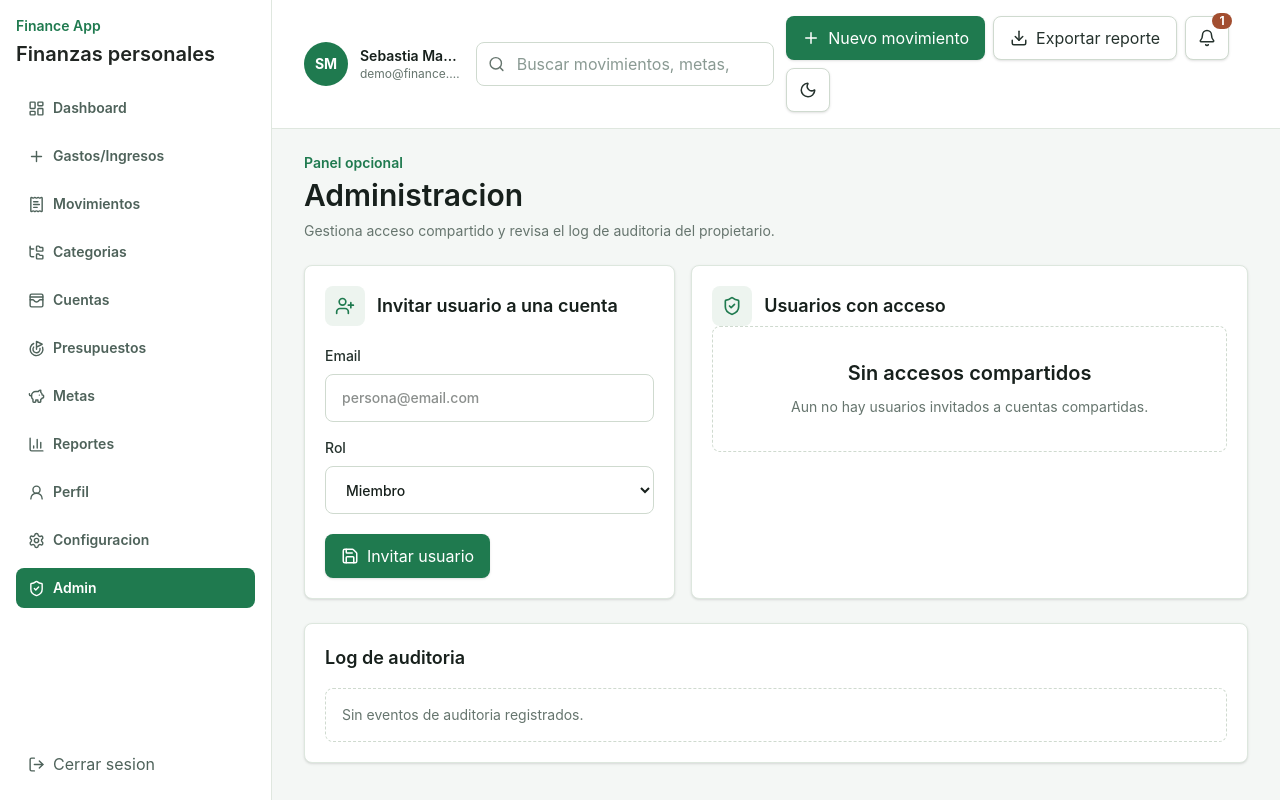
Test: HU-05 Experiencia Configuracion e Inteligencia › permite invitar usuarios desde el panel admin
The width and height of the screenshot is (1280, 800).
expect the heading "Administracion" is shown: met, box [304,177,523,213]
Type "lector@finance.app" into the field labelled "Email" at point(490, 398), box [325,374,654,422]
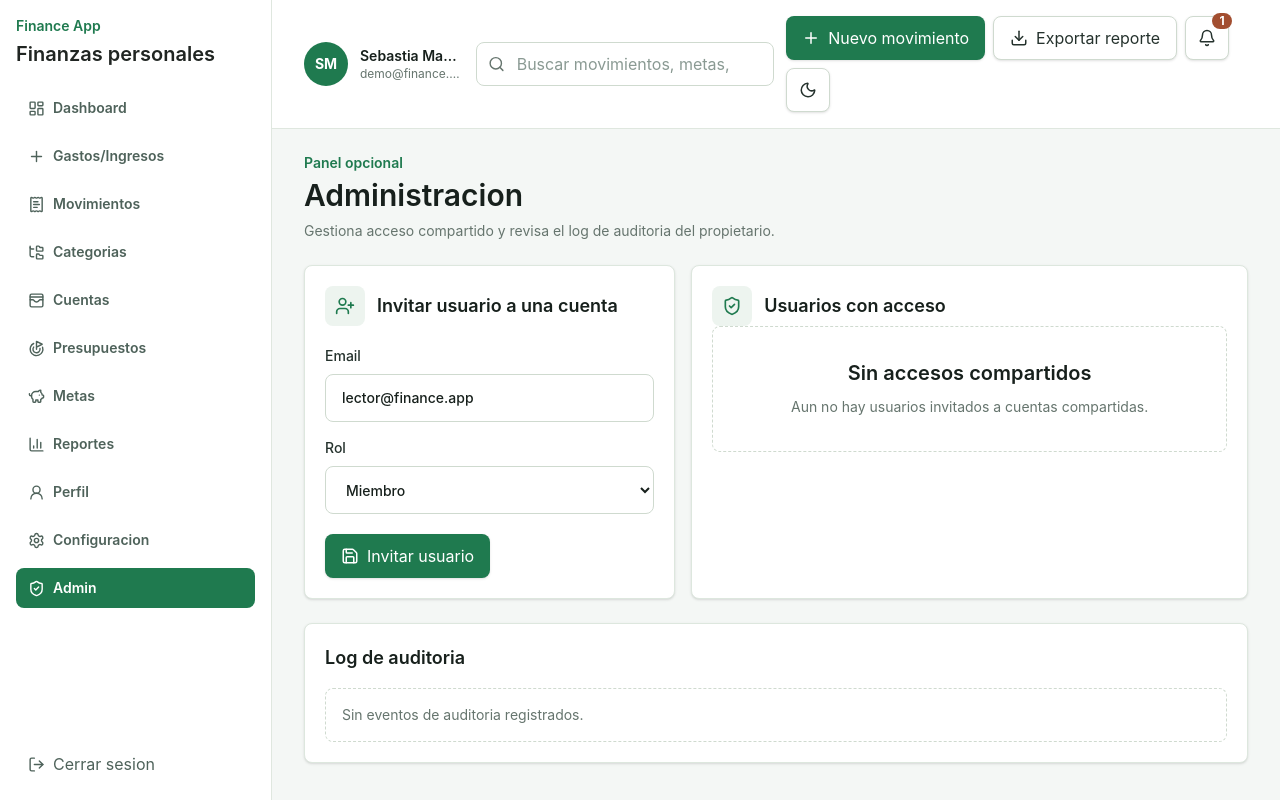
Click the button "Invitar usuario" at point(408, 556), box [325,534,490,578]
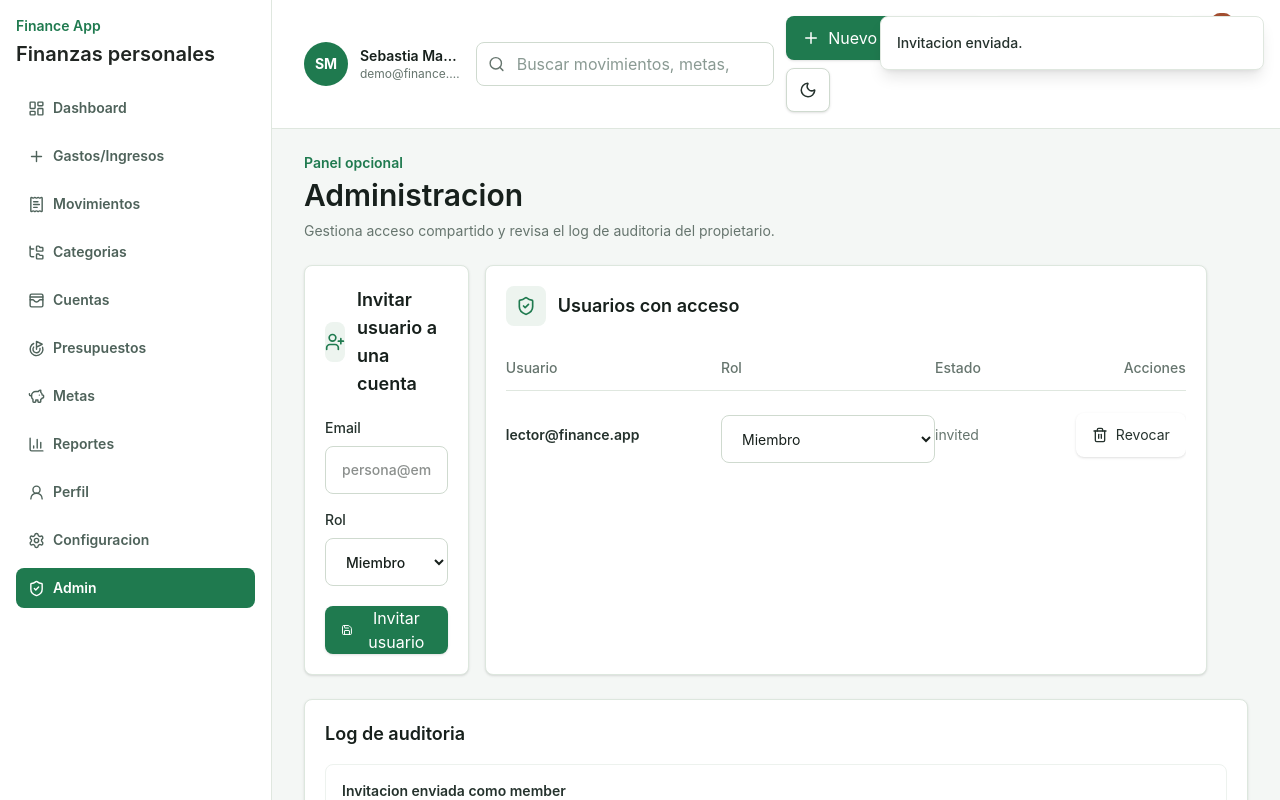
expect the text "lector@finance.app" is shown: met, box [506,390,721,479]
